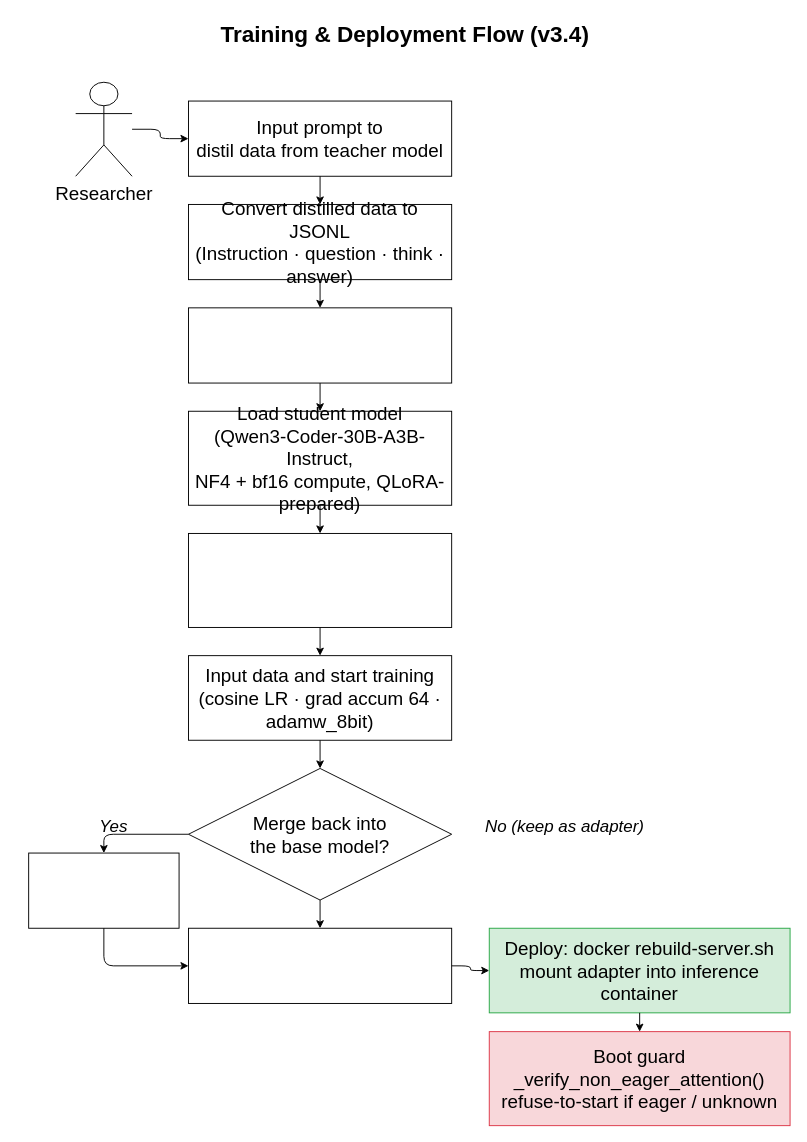
The diagram is 807 pixels wide and 1142 high, and some of its shapes have lost their labels. Here are the shapes that lost their labels. From the top down, the centre of each, then its label:
At pixel 320 345: "Preprocess training data (tokenize · build_prompt · label mask)".
At pixel 320 580: "Inject LoRA adapter (r=64, α=64, dropout=0.1, q/k/v/o + gate/up/down_proj)".
At pixel 103 890: "Merge adapter into base (merge_and_unload)".
At pixel 320 965: "Save LoRA artifacts outputs-lora-qwen3-coder-30b/".
